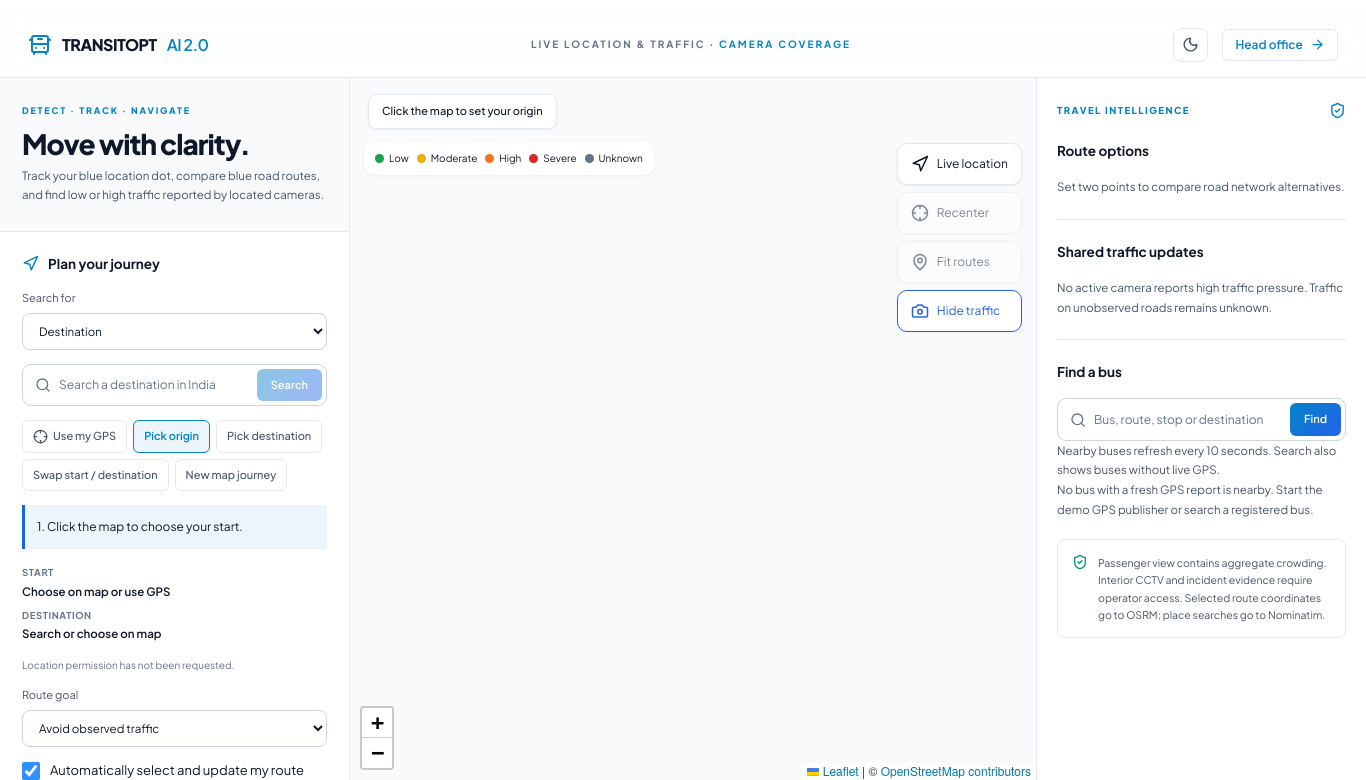
Test: Passenger and driver mobility flows › starts location watching only on request, follows the dot, lets a map drag pause following and clears the watch
Click the button with aria-label "Start live location tracking".
click(959, 164)  # box [897,143,1022,185]
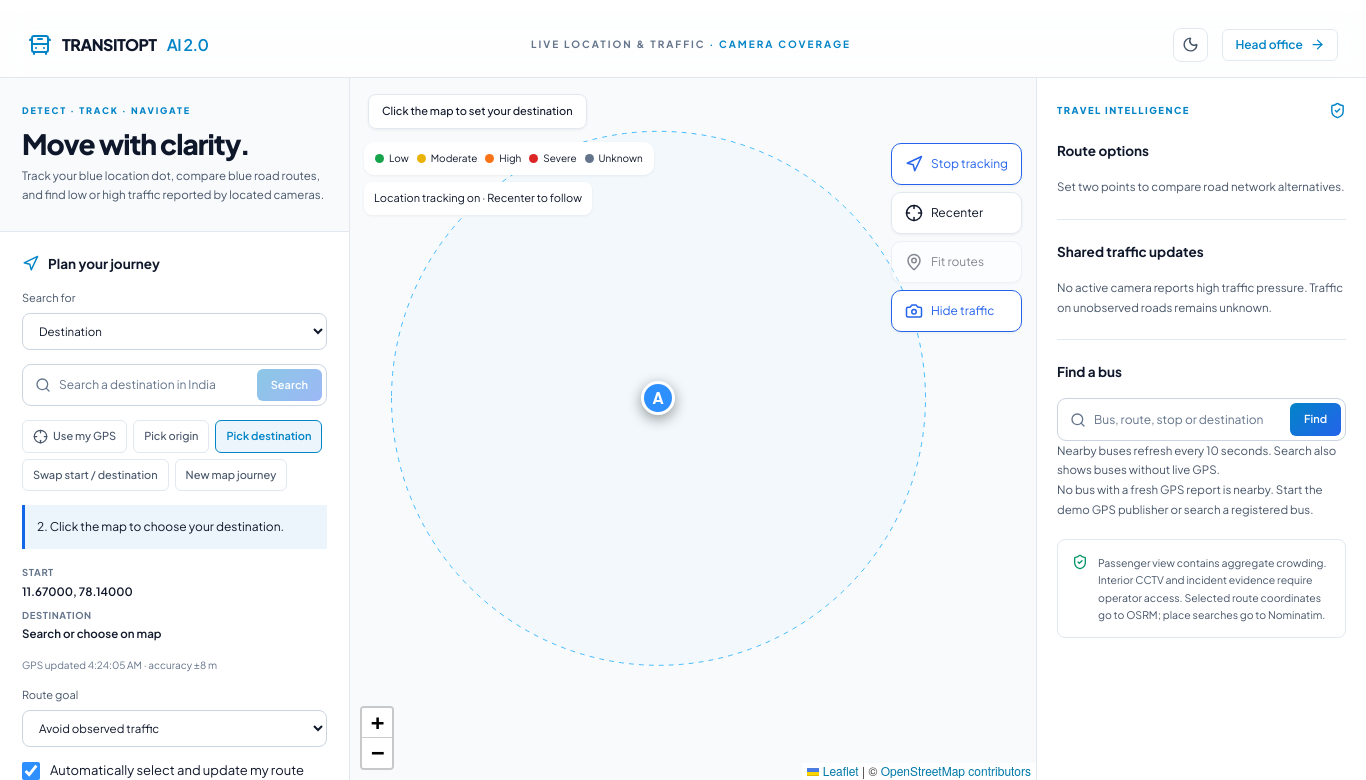
Result: the text "Location tracking on · Recenter to follow" is shown at [364,182,592,214]
Click the button with aria-label "Recenter on my location".
click(956, 213)  # box [891,192,1022,234]
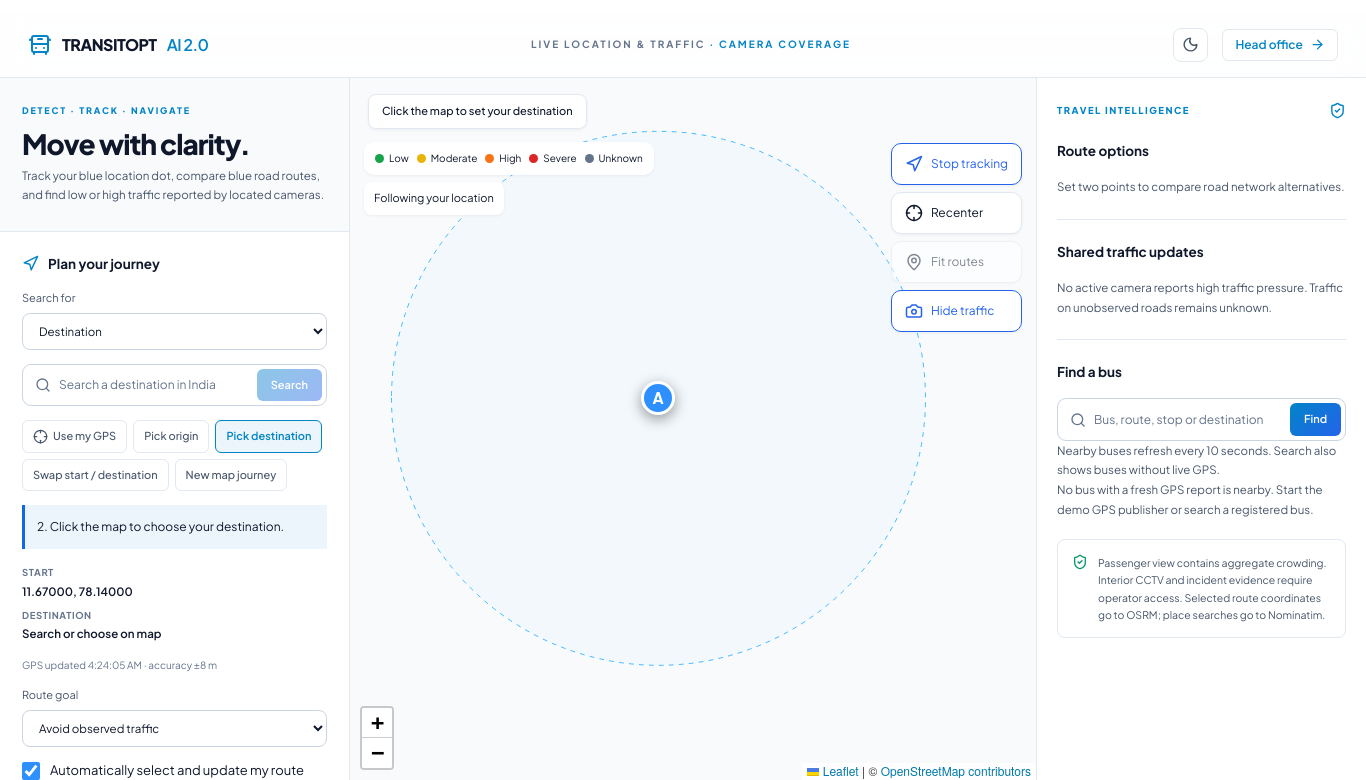
Result: the text "Following your location" is shown at [364,182,504,214]
